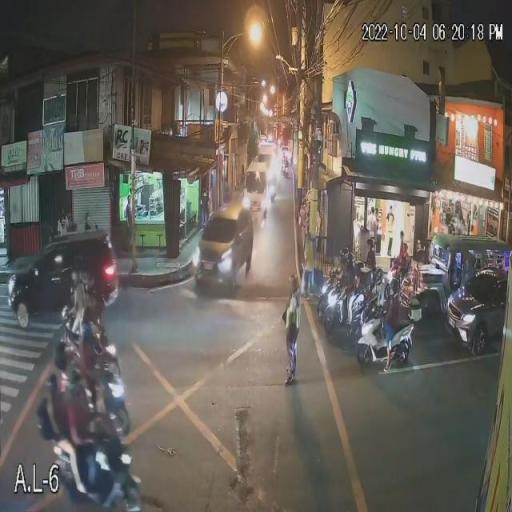helmet: (66, 374, 82, 403), (80, 324, 94, 348), (44, 376, 60, 396), (70, 271, 82, 291), (386, 281, 399, 298), (340, 248, 349, 267), (84, 278, 94, 291), (401, 243, 409, 255), (366, 240, 374, 250)
motorcycle: (55, 433, 142, 507), (58, 362, 130, 430), (362, 314, 415, 367), (58, 332, 119, 378), (58, 306, 110, 342), (322, 288, 363, 323), (314, 273, 352, 297)
rider: (69, 378, 91, 469), (42, 375, 66, 444), (386, 288, 400, 377), (78, 325, 96, 377), (68, 272, 84, 328), (81, 275, 97, 324), (339, 250, 352, 286), (364, 238, 377, 270), (400, 243, 410, 273)
